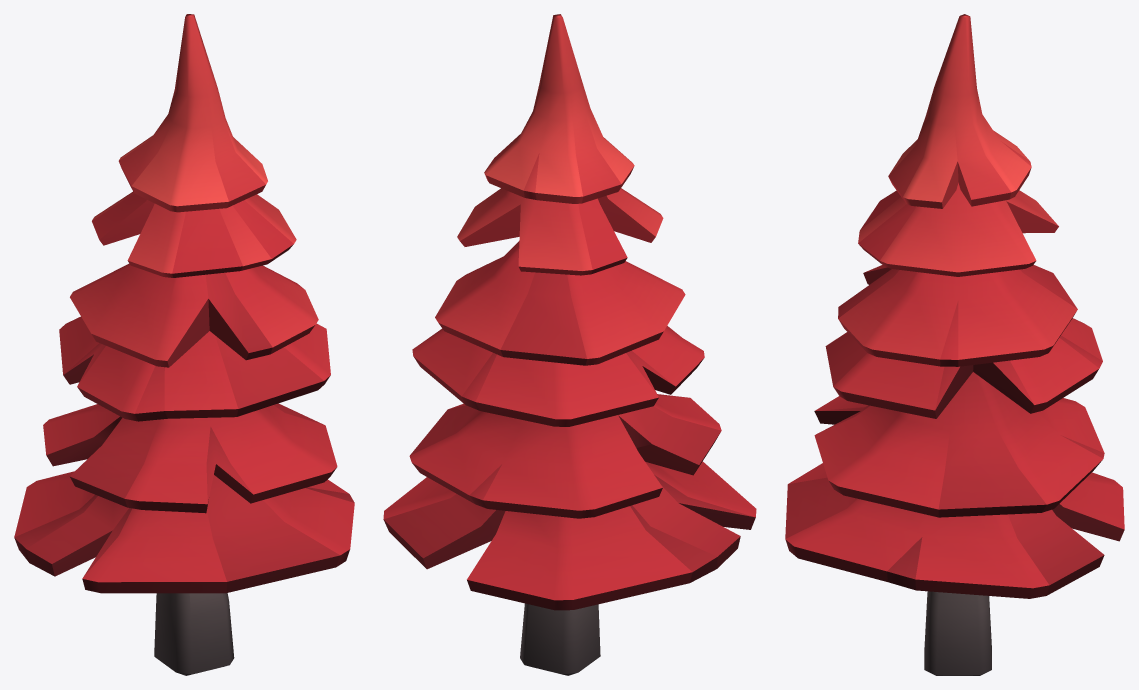
The model's file is pine_tree_col3_7.fbx.
The picture shows the model from 3 angles, left to right: view 1: azimuth 30°, elevation 25°; view 2: azimuth 150°, elevation 25°; view 3: azimuth 270°, elevation 25°; orthographic projection.
Parts seen in each view (by area): view 1: pine_tree_col3_7; view 2: pine_tree_col3_7; view 3: pine_tree_col3_7.
Boxes of the visible parts, bbox=[...] form: pine_tree_col3_7: bbox=[14, 14, 354, 675]; pine_tree_col3_7: bbox=[383, 14, 756, 675]; pine_tree_col3_7: bbox=[785, 14, 1124, 675].
Bounding box in the file's own units: 492 × 1012 × 479.
Materials: 1 (1 with a texture image).
